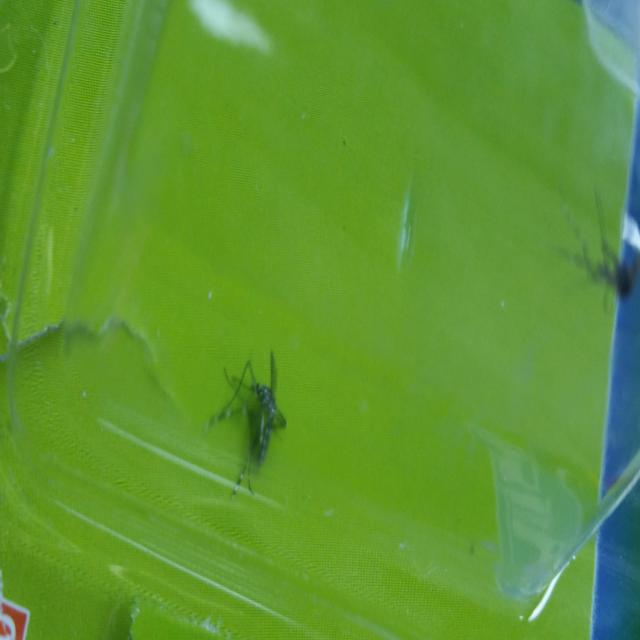albopictus: (202, 342, 295, 502)
